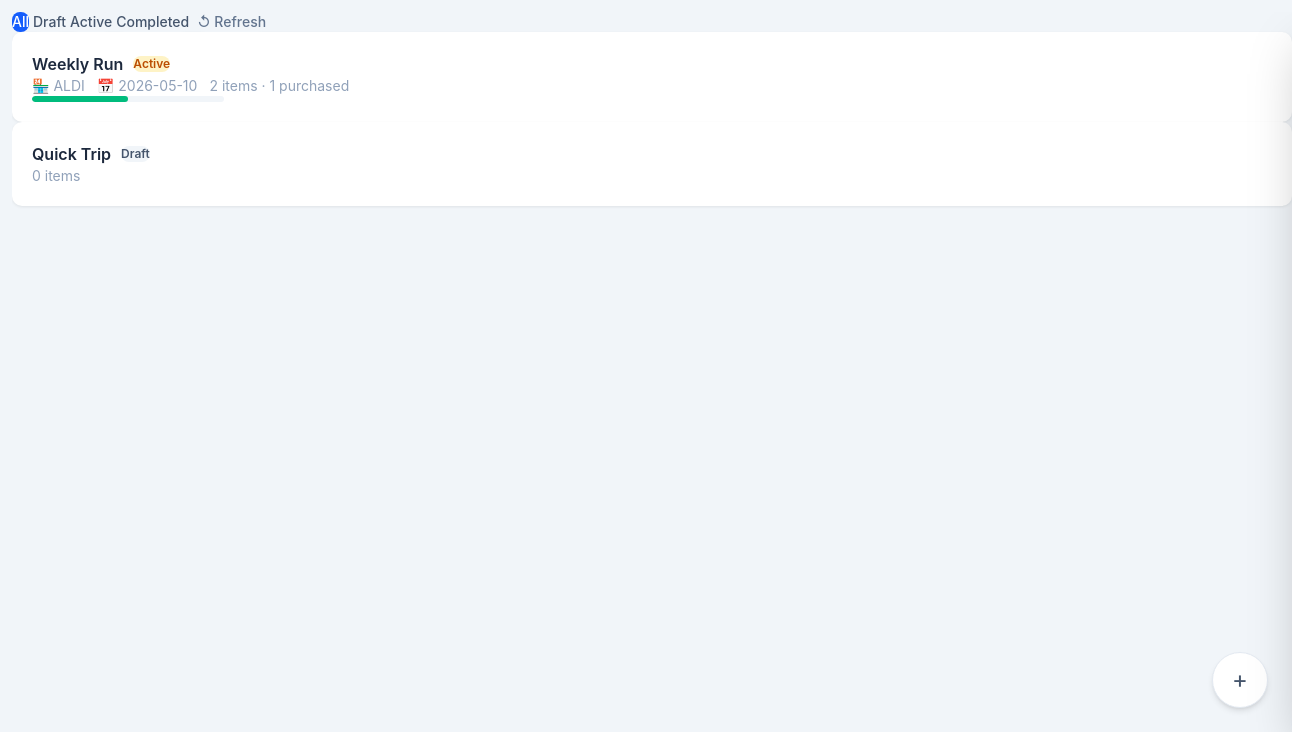
it: GroceryLists — status filter › filters to only draft lists when Draft is clicked
This screenshot has width=1292, height=732.
Expected: the text "Weekly Run" is shown, [32, 52, 123, 76]
Step 1. Click the button "Draft" → (50, 22), box [33, 12, 66, 32]
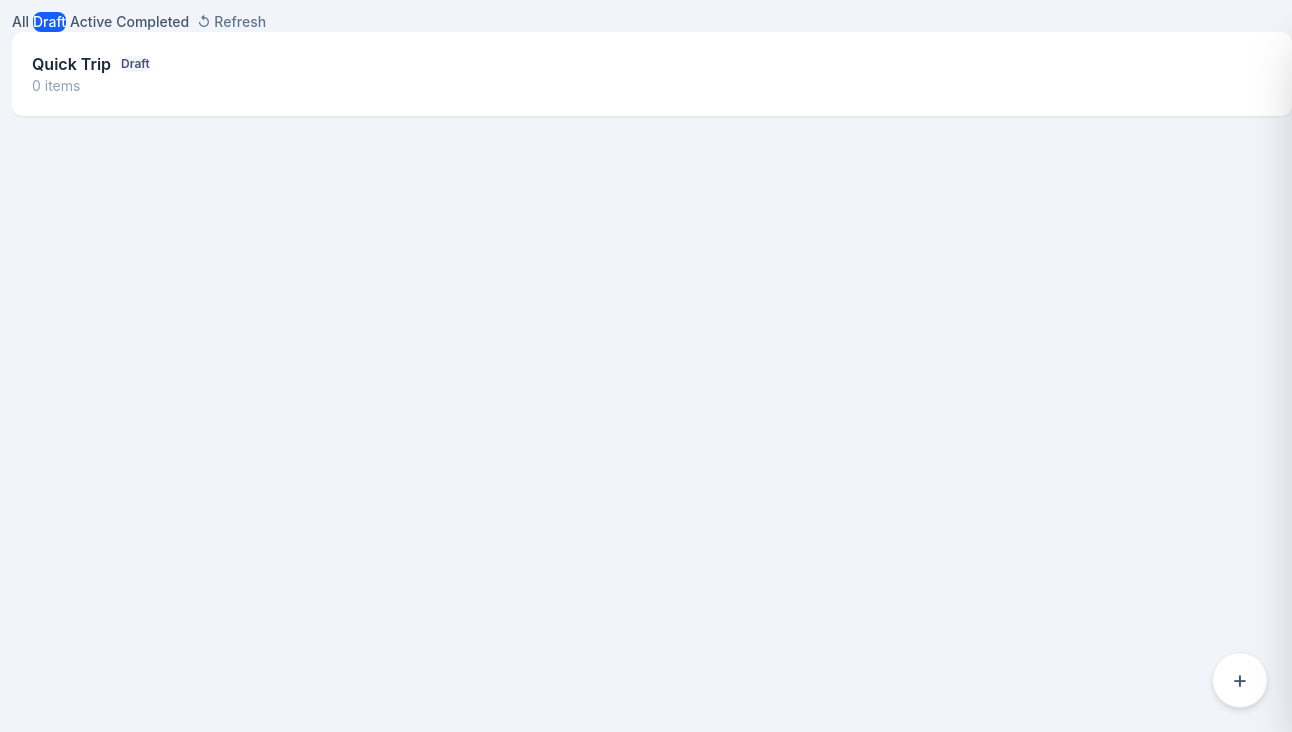
Expected: the text "Quick Trip" is shown, [32, 52, 111, 76]
Expected: the text "Weekly Run" is gone
